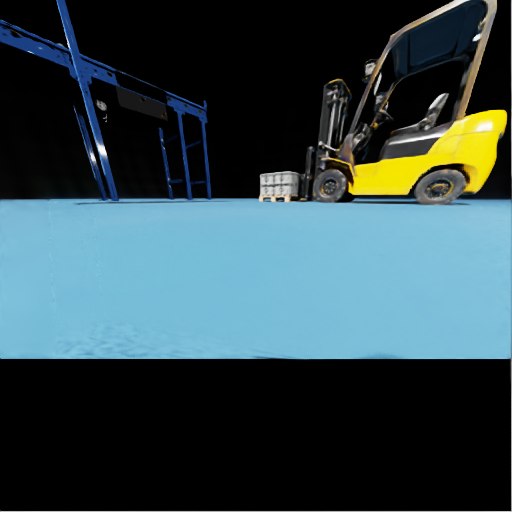transportation_area: (274, 184, 302, 194), (94, 69, 96, 71), (3, 33, 5, 35), (70, 60, 72, 61), (33, 40, 34, 41), (3, 27, 4, 28)
